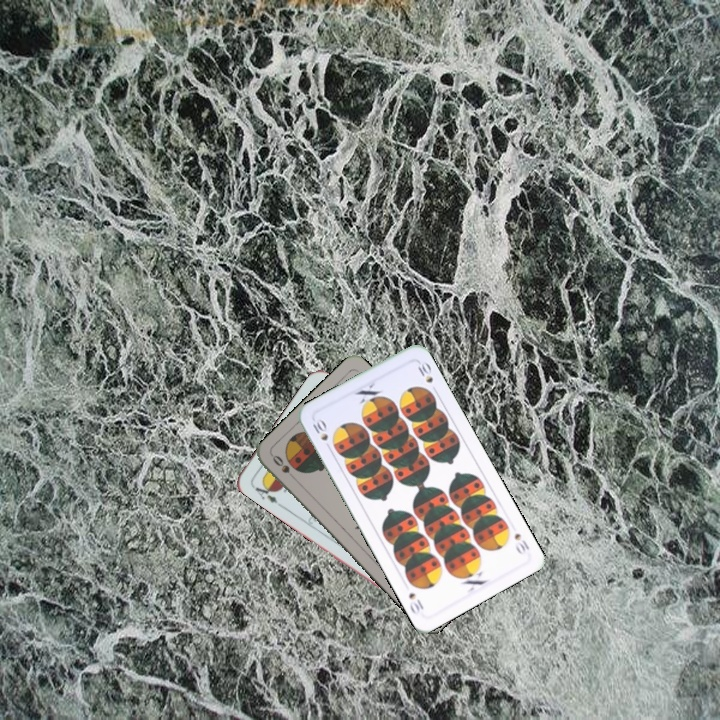EA: (248, 478, 284, 509)
S10: (308, 415, 331, 443), (510, 529, 532, 558)
SO: (268, 451, 300, 484)
